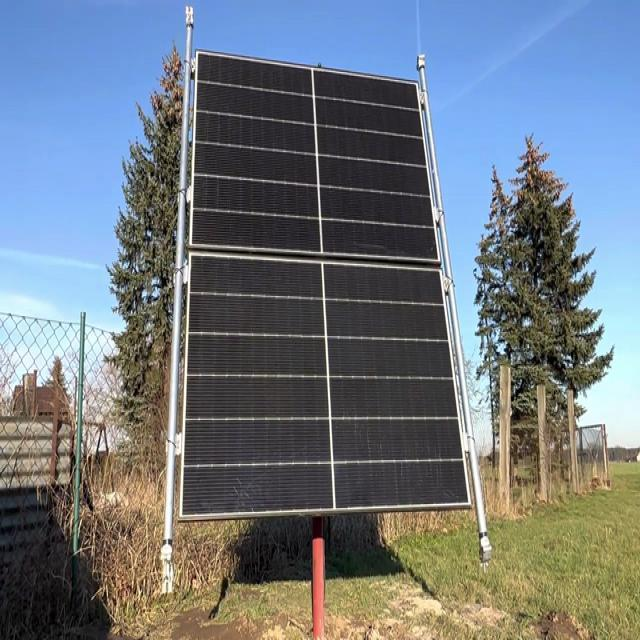Normal Solar Panel: (180, 51, 470, 521)
